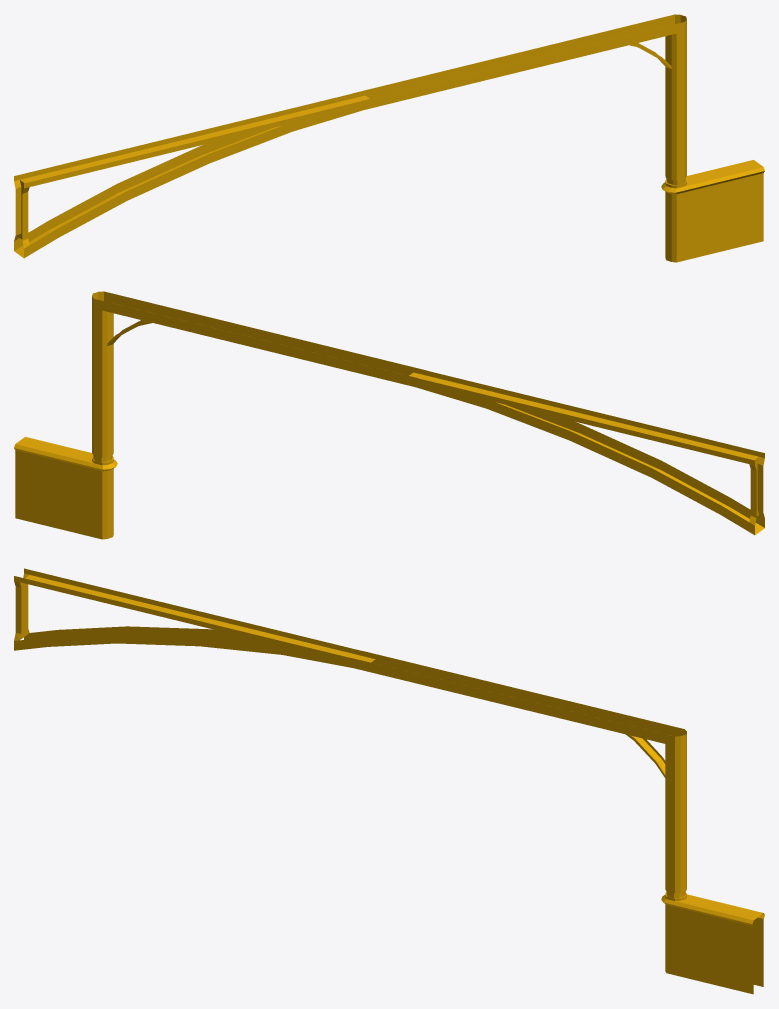
The model's file is Pilares.fbx.
3 renders of one model, top to bottom at view 1: azimuth 30°, elevation 25°; view 2: azimuth 150°, elevation 25°; view 3: azimuth 330°, elevation 25°, orthographic.
Parts seen in each view (by area): view 1: Pilares; view 2: Pilares; view 3: Pilares.
Part boxes in pixels (x1,y1,x2,y2): Pilares: (14,14,764,262); Pilares: (14,291,764,539); Pilares: (14,568,764,994).
Bounding box in the file's own units: 1468 × 453 × 42.72.
